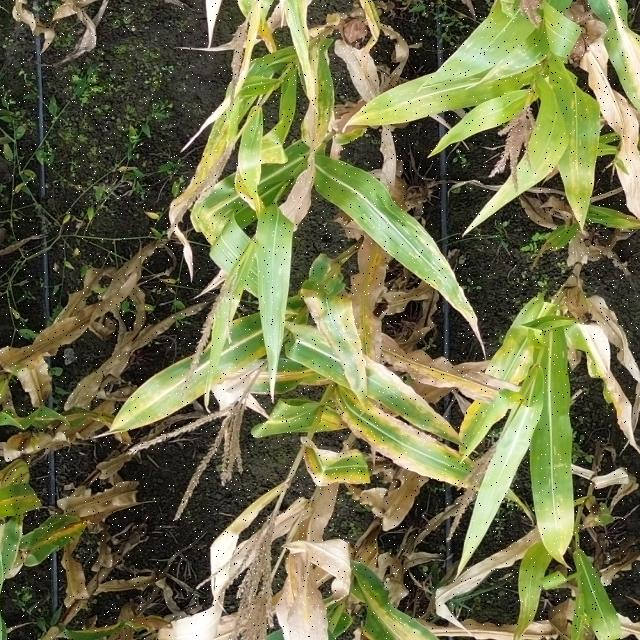gray-leaf-spot: (361, 199, 457, 296)
northern-leaf-blight: (316, 353, 496, 489), (108, 320, 318, 430), (323, 535, 471, 640), (187, 103, 272, 197)
southern-leaf-blight: (515, 95, 599, 212)
